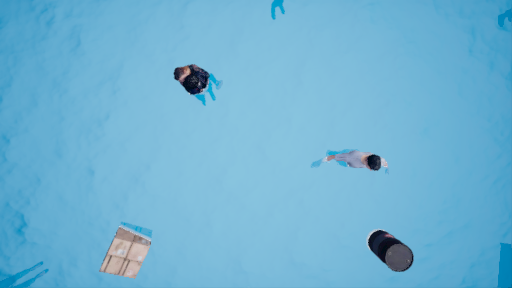person: (310, 142, 386, 181), (176, 63, 229, 112)
